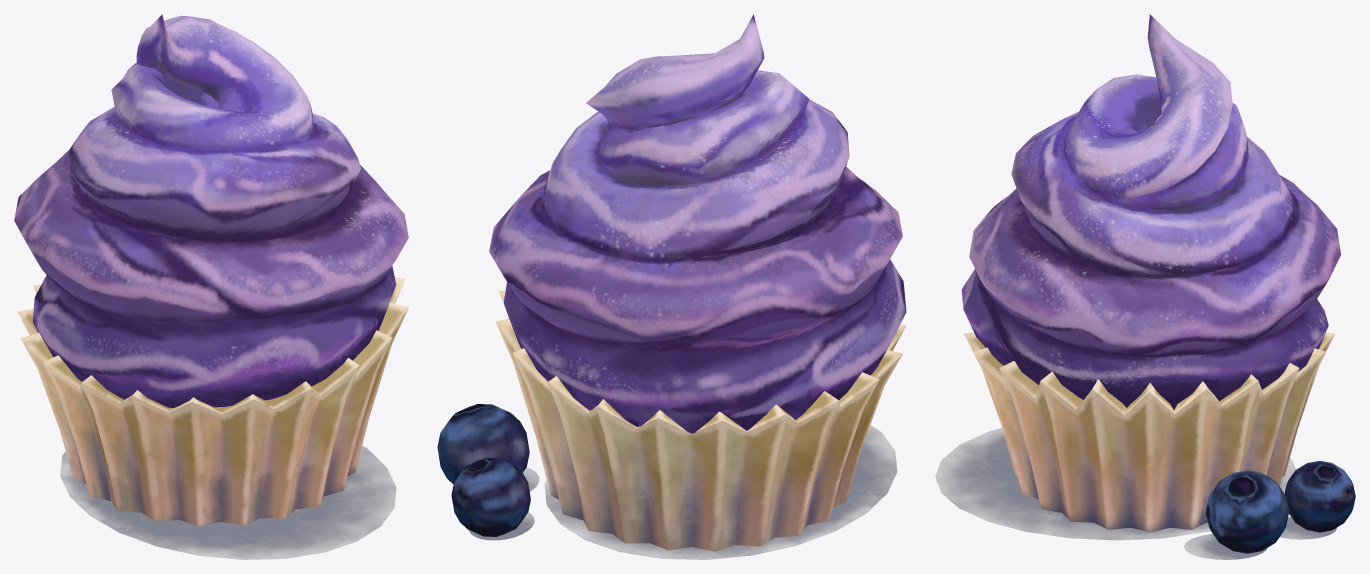
File: blueberry.glb
3 renders of one model, left to right at view 1: azimuth 30°, elevation 25°; view 2: azimuth 150°, elevation 25°; view 3: azimuth 270°, elevation 25°, orthographic. The views are drawn at different scales.
Parts seen in each view (by area): view 1: Muffin_lowpoly1; view 2: Muffin_lowpoly1; view 3: Muffin_lowpoly1.
Part boxes in pixels (x1=…): Muffin_lowpoly1: x1=14, y1=14, x2=408, y2=559; Muffin_lowpoly1: x1=437, y1=14, x2=906, y2=559; Muffin_lowpoly1: x1=935, y1=14, x2=1355, y2=559.
Bounding box in the file's own units: 7.1 × 8.72 × 7.53.
Materials: 4 (4 with a texture image).
